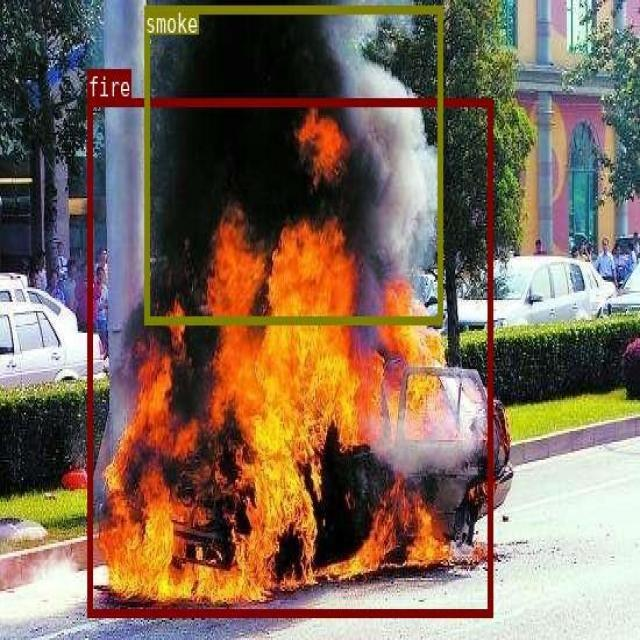fire: (86, 97, 492, 615)
smoke: (144, 4, 441, 323)
